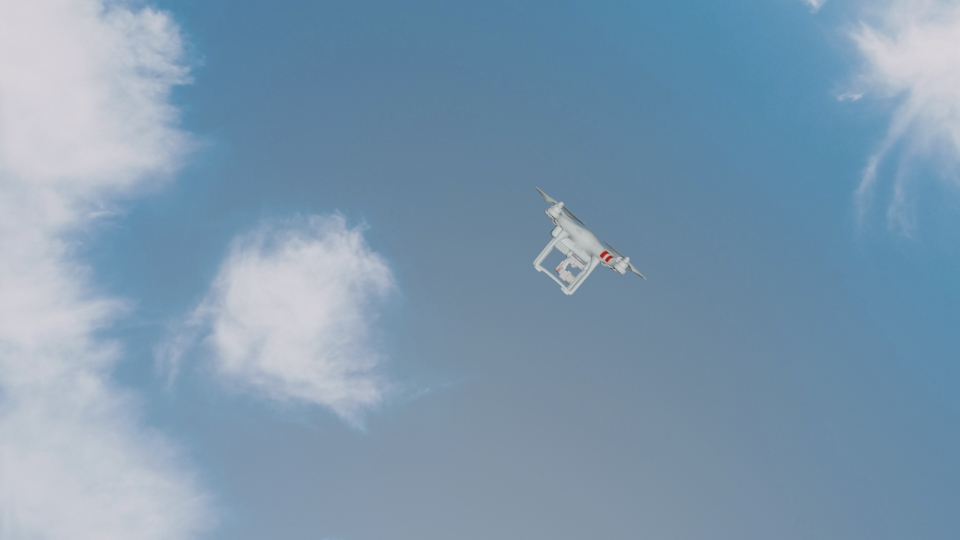drone: (518, 191, 647, 294)
